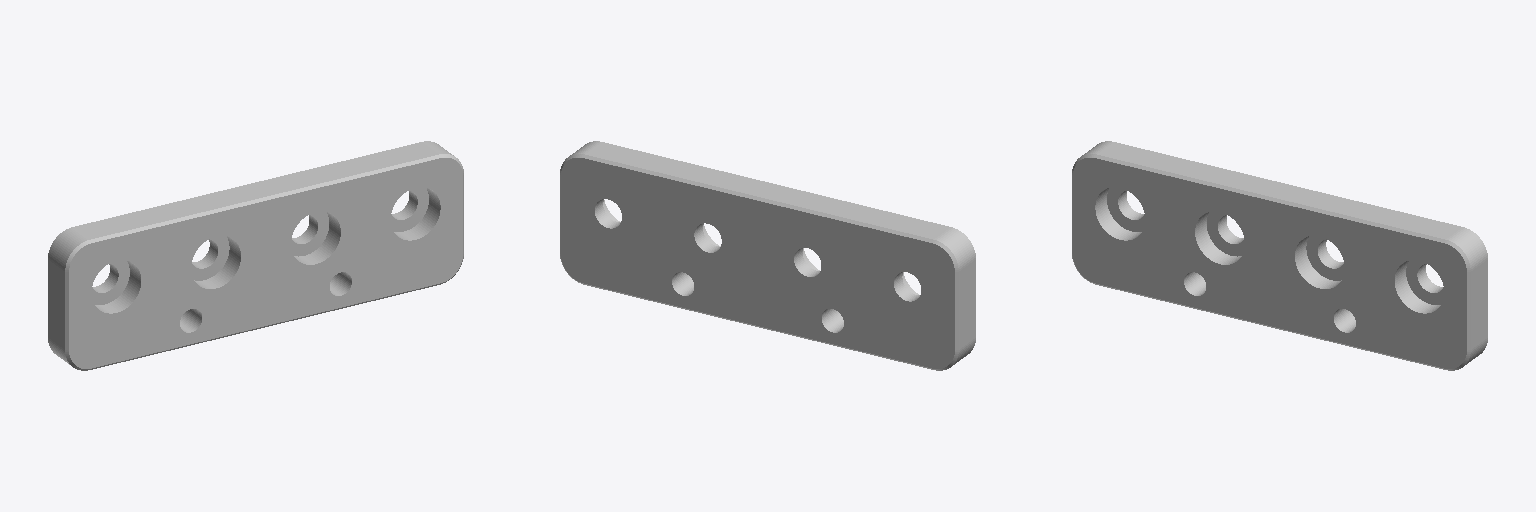
The model's file is JKK60_RailTo2080ProfileAdapter v5.obj.
The picture shows the model from 3 angles: view 1: azimuth 30°, elevation 25°; view 2: azimuth 150°, elevation 25°; view 3: azimuth 330°, elevation 25°; orthographic projection.
Parts seen in each view (by area): view 1: Körper1; view 2: Körper1; view 3: Körper1.
Part boxes in pixels (bbox=[...]): Körper1: bbox=[48, 141, 463, 370]; Körper1: bbox=[560, 141, 975, 370]; Körper1: bbox=[1072, 141, 1487, 370].
Bounding box in the file's own units: 80 × 25 × 7.